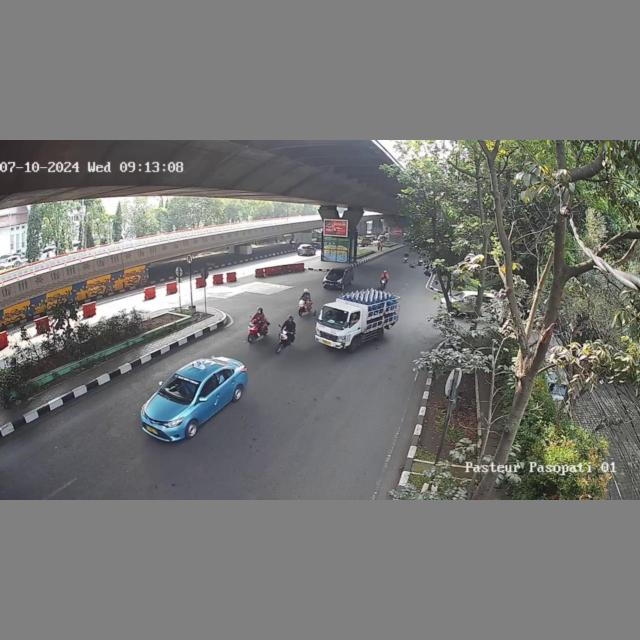windshield: (160, 374, 199, 401), (319, 303, 350, 327)
